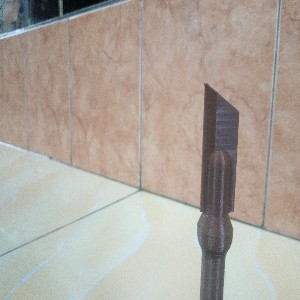cutter: (195, 81, 241, 300)
